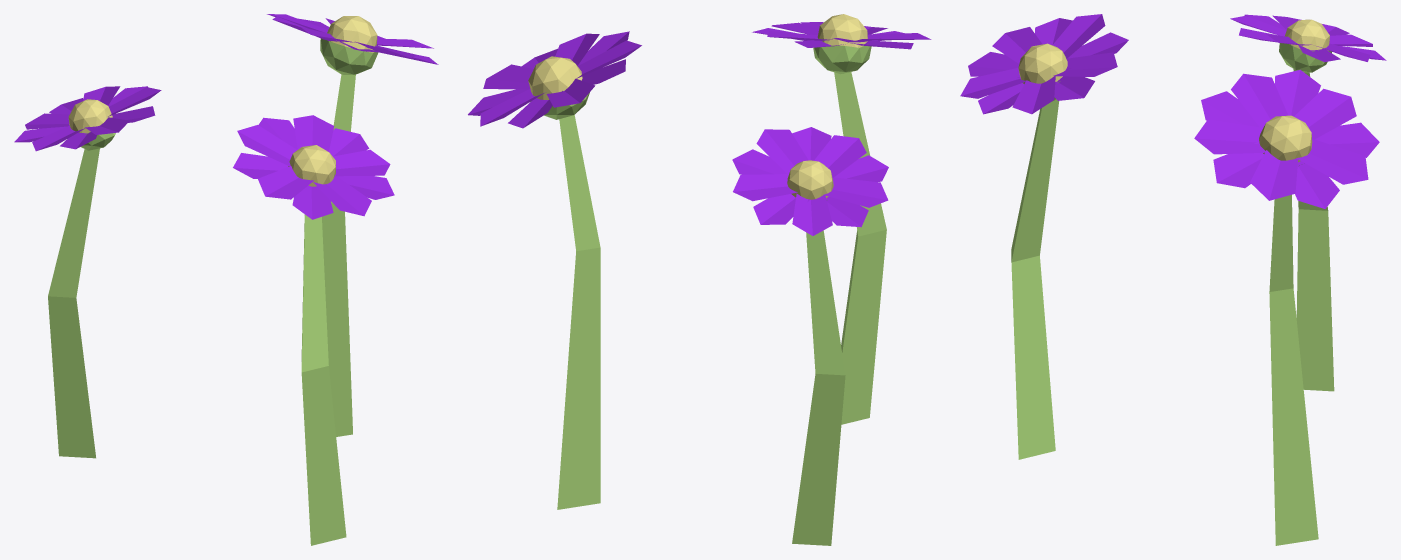
Rendered from purpleFlower.glb.
3 renders of one model, left to right at view 1: azimuth 30°, elevation 25°; view 2: azimuth 150°, elevation 25°; view 3: azimuth 270°, elevation 25°, orthographic. The views are drawn at different scales.
Parts seen in each view (by area): view 1: Cylinder.003; view 2: Cylinder.003; view 3: Cylinder.003.
Boxes of the visible parts, left/top/right/bottom form: Cylinder.003: left=14, top=14, right=438, bottom=545; Cylinder.003: left=468, top=14, right=931, bottom=545; Cylinder.003: left=960, top=14, right=1386, bottom=545.
Bounding box in the file's own units: 0.1607 × 0.1673 × 0.146.
